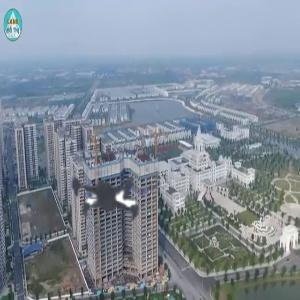drone: (35, 124, 181, 270)
